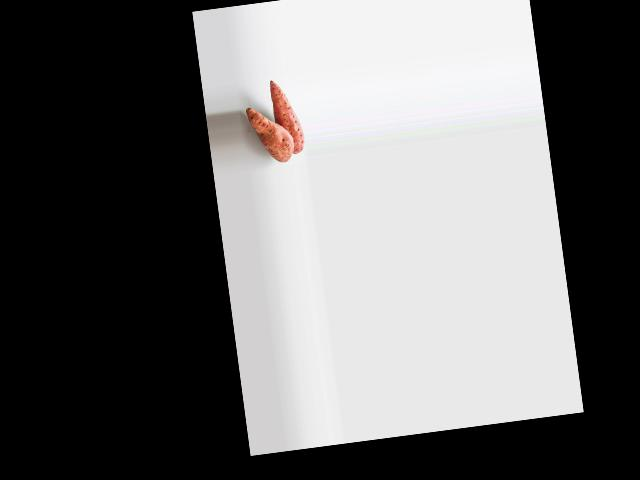sweet_potato: (269, 82, 305, 155)
